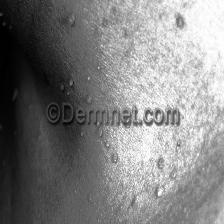Benign Marking or Mole: (152, 156, 185, 208), (70, 181, 99, 224), (58, 76, 96, 104), (0, 5, 17, 37), (101, 143, 122, 168), (67, 12, 79, 26), (177, 14, 186, 31), (11, 90, 20, 104), (0, 121, 4, 135)
